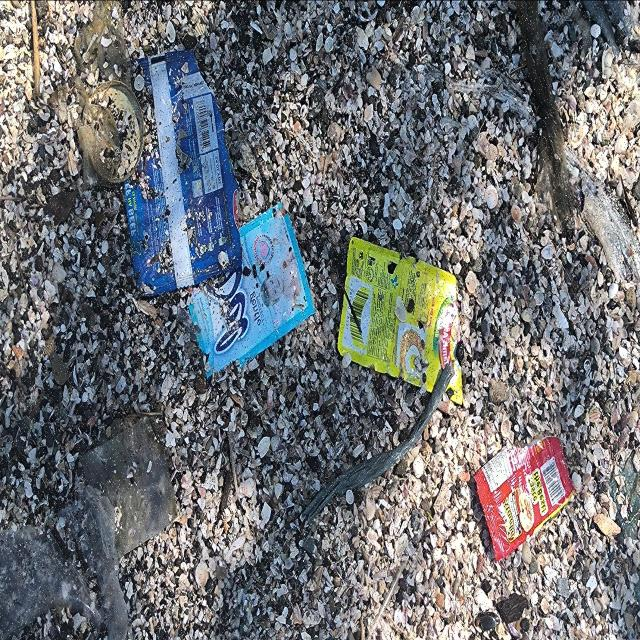plastic_waste: (124, 48, 245, 301), (187, 201, 318, 381), (338, 235, 466, 407), (474, 436, 579, 563)
